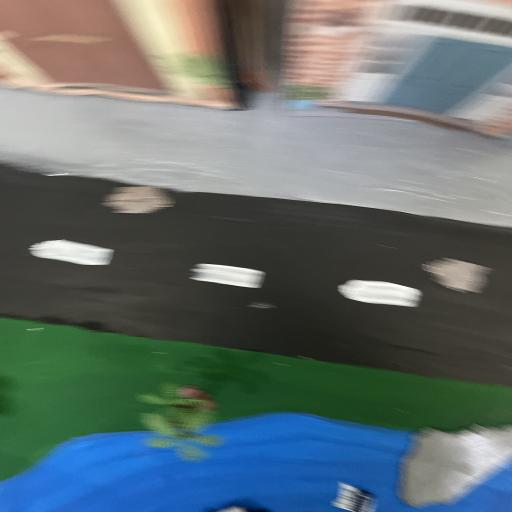encroachment: (402, 423, 512, 505)
porthole: (420, 256, 500, 294), (102, 186, 178, 216)
trash: (331, 481, 379, 512)
